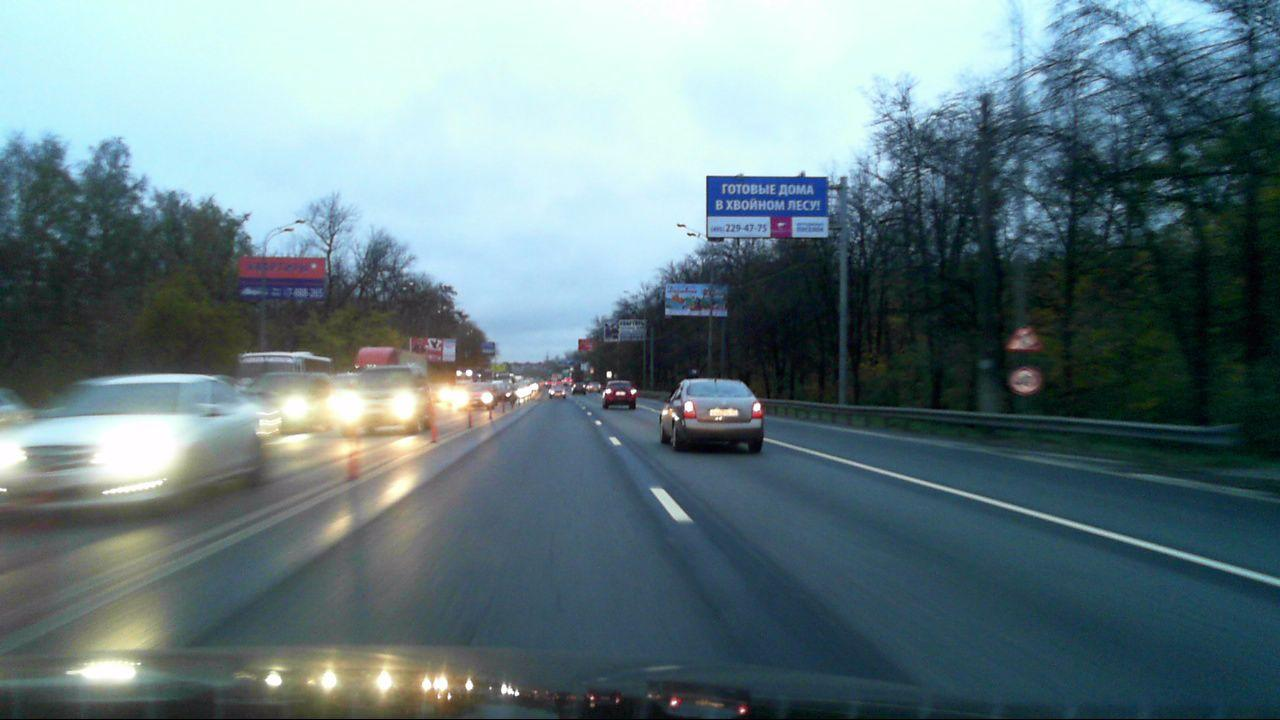1_25: (1007, 320, 1042, 352)
3_24: (1008, 365, 1043, 395)
